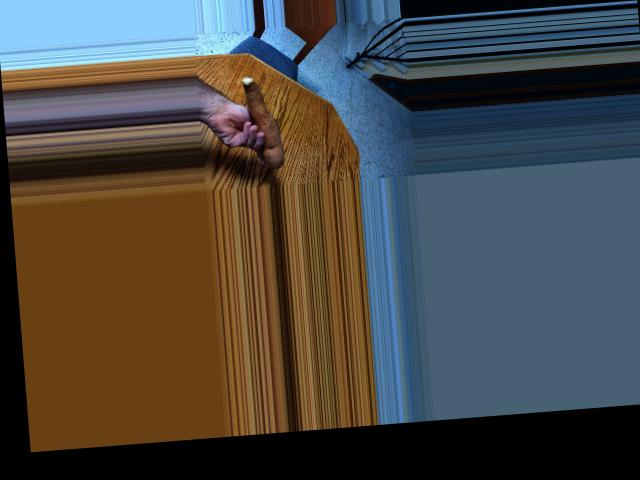sweet_potato: (239, 72, 289, 167)
